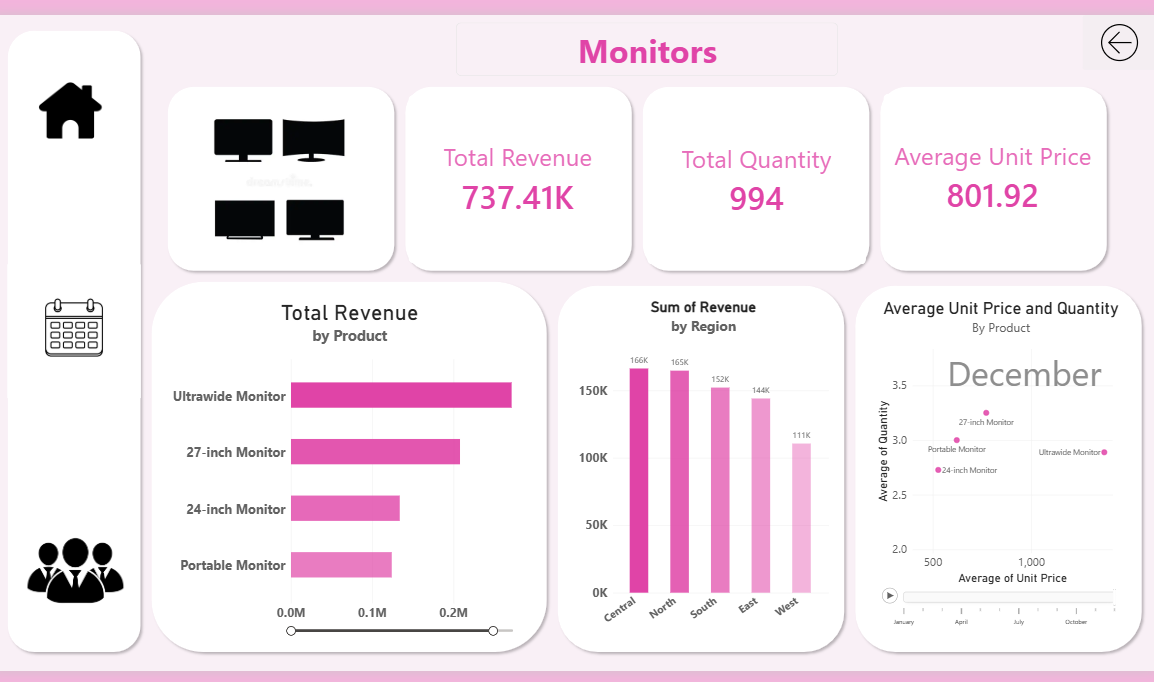

What the dashboard file says about the page in this screenshot:
{"tool":"powerbi","page":{"name":"Monitors","canvas":[1920,1080],"ordinal":3},"visuals":[{"type":"shape","box":[18.5,16.5,236.7,1041.5],"z":0},{"type":"shape","box":[282,109.1,391.1,321.1],"z":1000},{"type":"shape","box":[673.1,109.1,391.1,321.1],"z":2000},{"type":"shape","box":[1064.2,109.1,391.1,321.1],"z":3000},{"type":"shape","box":[1455.2,109.1,391.1,321.1],"z":4000},{"type":"shape","box":[255.2,430.2,669,627.8],"z":5000},{"type":"shape","box":[1414.1,436.4,489.9,621.6],"z":6000},{"type":"shape","box":[924.2,436.4,489.9,621.6],"z":7000},{"type":"cardVisual","fields":{"Data":["Sum(Table1.Revenue)"]},"box":[687.5,131.7,360.2,277.9],"z":8000},{"type":"cardVisual","fields":{"Data":["Sum(Table1.Quantity)"]},"box":[1080.6,133.8,360.2,277.9],"z":9000},{"type":"cardVisual","fields":{"Data":["Avg(Table1.Unit Price)"]},"box":[1469.6,129.7,360.2,277.9],"z":10000},{"type":"barChart","title":"Total Revenue","fields":{"Category":["Table1.Product"],"Y":["Sum(Table1.Revenue)"]},"box":[281.4,453.9,617.5,580.4],"z":11000},{"type":"columnChart","fields":{"Category":["Table1.Region"],"Y":["Sum(Table1.Revenue)"]},"box":[950.9,452.8,444.6,580.4],"z":12000},{"type":"scatterChart","title":"Average  Unit Price and Quantity","fields":{"Category":["Table1.Product"],"Play":["Table1.Date.Variation.Date Hierarchy.Month"],"X":["Avg(Table1.Unit Price)"],"Y":["Avg(Table1.Quantity)"]},"box":[1440.8,452.8,444.6,580.4],"z":13000},{"type":"cardVisual","fields":{"Data":["Min(Table1.Product Category)"]},"box":[765.7,12.3,629.8,88.5],"z":14000},{"type":"image","box":[301.4,128.9,348.6,283.3],"z":15000},{"type":"actionButton","box":[1796.5,0,123.5,90.6],"z":16000},{"type":"image","box":[37,45.3,187.3,224.4],"z":17000},{"type":"image","box":[37,817.2,203.8,195.5],"z":18000},{"type":"image","box":[26.8,393.1,220.2,255.2],"z":19000}]}

Visuals, with their boxes on the page's 1920x1080 design canvas (x1, y1, x2, y2). These are canvas units, not pixel positions in the 1154x682 screenshot, which may show the page scaled, cropped or inside an application window:
shape: (left=18, top=16, right=255, bottom=1058)
shape: (left=282, top=109, right=673, bottom=430)
shape: (left=673, top=109, right=1064, bottom=430)
shape: (left=1064, top=109, right=1455, bottom=430)
shape: (left=1455, top=109, right=1846, bottom=430)
shape: (left=255, top=430, right=924, bottom=1058)
shape: (left=1414, top=436, right=1904, bottom=1058)
shape: (left=924, top=436, right=1414, bottom=1058)
cardVisual - Sum(Table1.Revenue): (left=688, top=132, right=1048, bottom=410)
cardVisual - Sum(Table1.Quantity): (left=1081, top=134, right=1441, bottom=412)
cardVisual - Avg(Table1.Unit Price): (left=1470, top=130, right=1830, bottom=408)
"Total Revenue" barChart: (left=281, top=454, right=899, bottom=1034)
columnChart - Table1.Region x Sum(Table1.Revenue): (left=951, top=453, right=1396, bottom=1033)
"Average  Unit Price and Quantity" scatterChart: (left=1441, top=453, right=1885, bottom=1033)
cardVisual - Min(Table1.Product Category): (left=766, top=12, right=1396, bottom=101)
image: (left=301, top=129, right=650, bottom=412)
actionButton: (left=1796, top=0, right=1920, bottom=91)
image: (left=37, top=45, right=224, bottom=270)
image: (left=37, top=817, right=241, bottom=1013)
image: (left=27, top=393, right=247, bottom=648)
